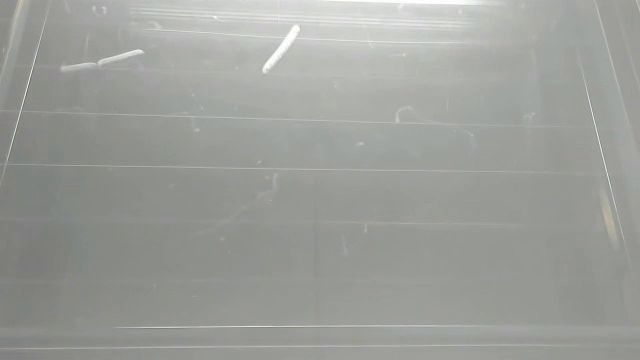alpha: (54, 47, 149, 76), (259, 22, 304, 74)
